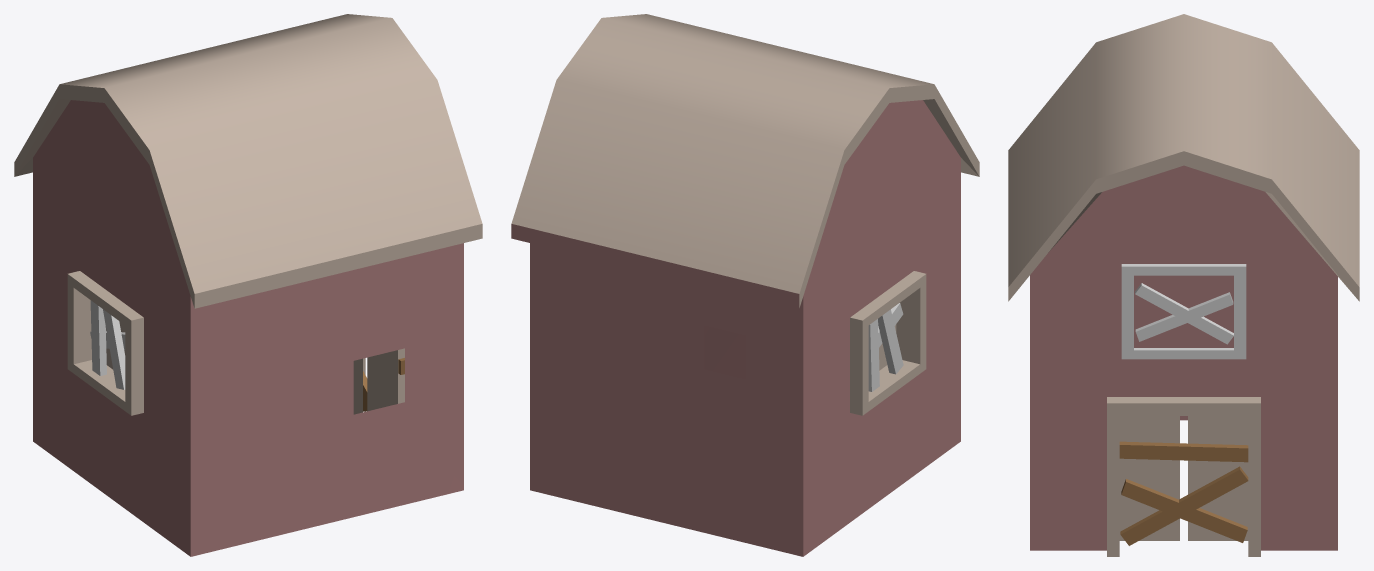
Rendered from barn.fbx.
3 renders of one model, left to right at view 1: azimuth 30°, elevation 25°; view 2: azimuth 150°, elevation 25°; view 3: azimuth 270°, elevation 25°, orthographic. The views are drawn at different scales.
Parts seen in each view (by area): view 1: polySurface8, polySurface5, polySurface2, polySurface7, pCube6, pCube7; view 2: polySurface8, polySurface5, polySurface2, pCube6, pCube7; view 3: polySurface8, polySurface5, polySurface7, polySurface3, pCube2, pCube4, pCube3, pCube25, pCube26.
Boxes of the visible parts, x1,y1,x2,y2 form: polySurface8: [33, 100, 463, 556]; polySurface5: [14, 14, 482, 308]; polySurface2: [67, 271, 143, 415]; polySurface7: [353, 348, 404, 414]; pCube6: [103, 309, 125, 389]; pCube7: [90, 300, 106, 375]; polySurface8: [511, 100, 960, 556]; polySurface5: [511, 14, 979, 307]; polySurface2: [850, 271, 926, 415]; pCube6: [878, 309, 903, 374]; pCube7: [868, 319, 879, 391]; polySurface8: [1030, 165, 1337, 550]; polySurface5: [1008, 14, 1359, 301]; polySurface7: [1107, 397, 1260, 556]; polySurface3: [1121, 264, 1246, 359]; pCube2: [1120, 466, 1248, 545]; pCube4: [1119, 441, 1248, 462]; pCube3: [1121, 479, 1247, 542]; pCube25: [1135, 283, 1233, 344]; pCube26: [1135, 292, 1233, 341].
Size of the model in its own units: 8.78 by 11.62 by 9.17.
